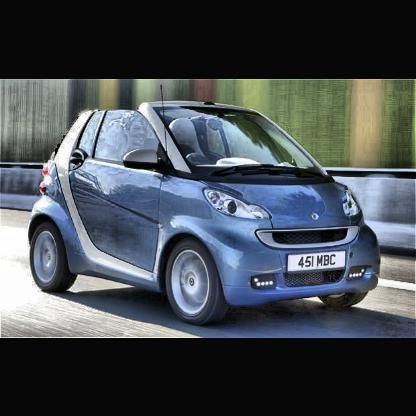smart fortwo Convertible 2012: (29, 85, 385, 324)
